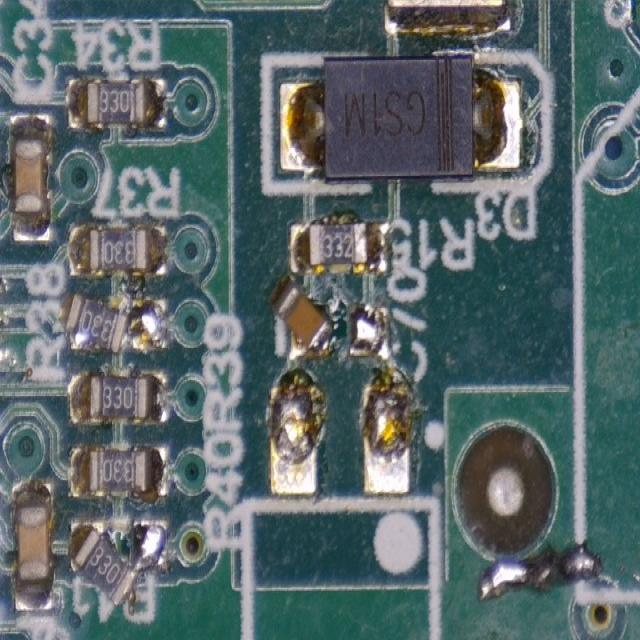Incorrect_installation: (68, 516, 168, 607), (65, 294, 169, 355), (271, 274, 333, 357)
